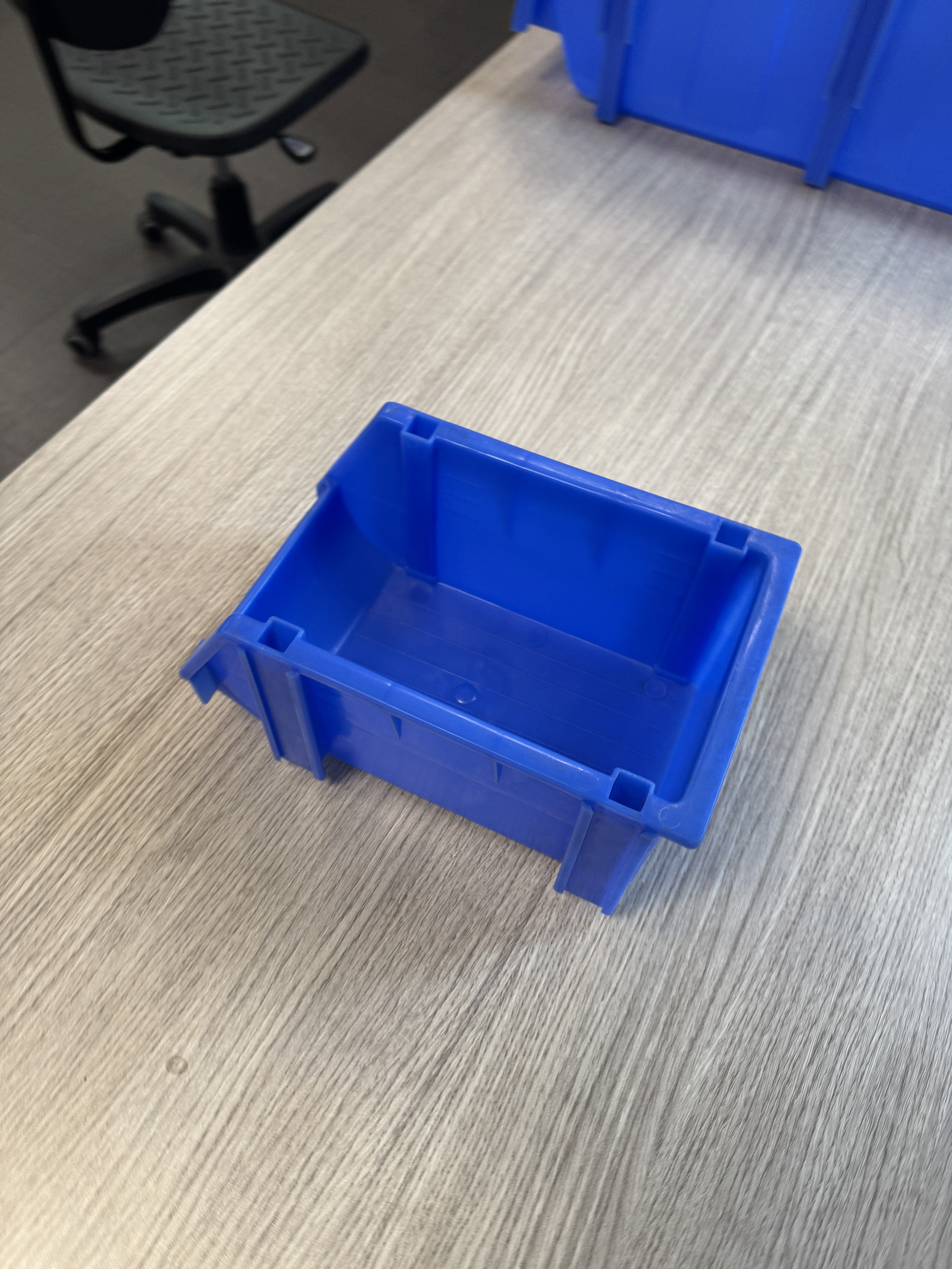Bin Boundary: (233, 373, 776, 802)
